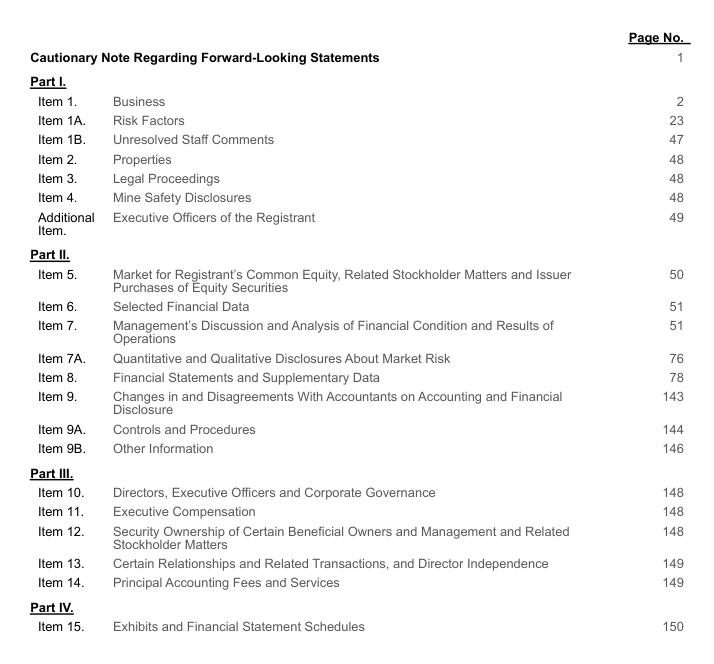table: (29, 28, 682, 633)
table column: (102, 28, 598, 633), (598, 28, 682, 633), (29, 28, 102, 633)
table column header: (29, 28, 682, 68)
table projected row header: (29, 68, 682, 90), (29, 241, 682, 263), (29, 459, 682, 481), (29, 594, 682, 616)
table row: (29, 28, 682, 68), (29, 206, 682, 241), (29, 263, 682, 295), (29, 315, 682, 347), (29, 386, 682, 418), (29, 520, 682, 552), (29, 68, 682, 90), (29, 241, 682, 263), (29, 437, 682, 459), (29, 459, 682, 481), (29, 572, 682, 594), (29, 594, 682, 616), (29, 109, 682, 129), (29, 167, 682, 187), (29, 295, 682, 315), (29, 366, 682, 386), (29, 481, 682, 501), (29, 552, 682, 572), (29, 90, 682, 109), (29, 129, 682, 148), (29, 148, 682, 167), (29, 187, 682, 206), (29, 347, 682, 366), (29, 418, 682, 437), (29, 501, 682, 520), (29, 616, 682, 633)
table spanning cell: (29, 28, 598, 68)
